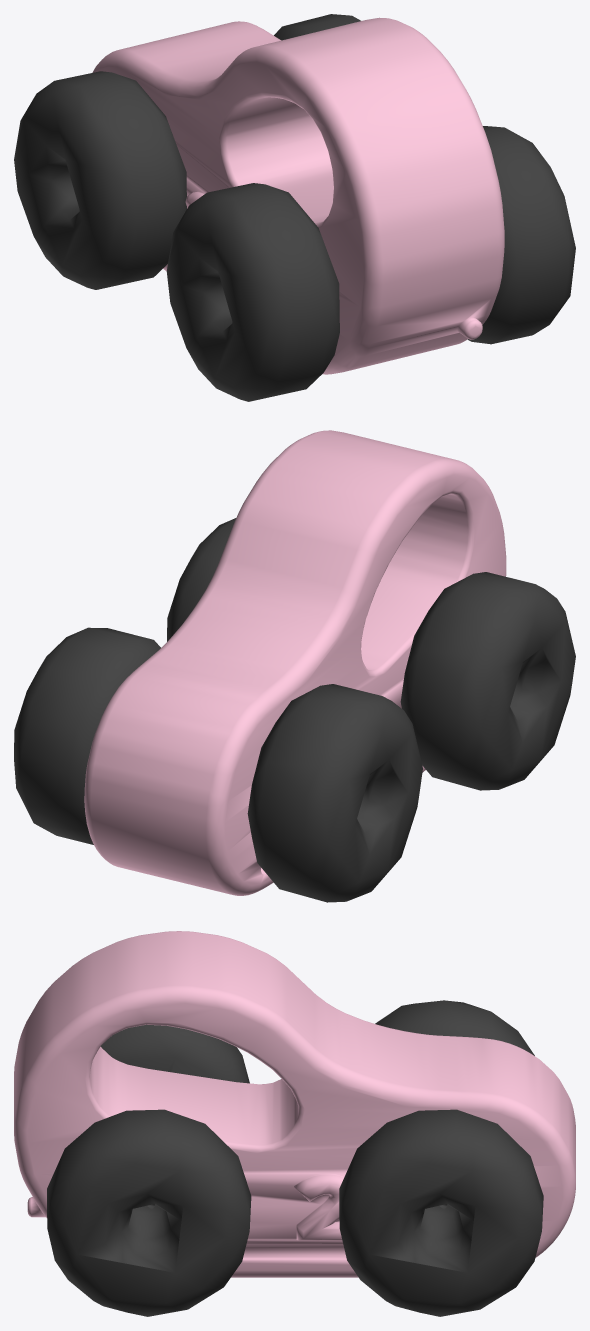
Rendered from car-toddler.glb.
3 renders of one model, top to bottom at view 1: azimuth 30°, elevation 25°; view 2: azimuth 150°, elevation 25°; view 3: azimuth 270°, elevation 25°, orthographic. The views are drawn at different scales.
Visible parts, largest first — view 1: body, wheel.002, wheel, wheel.003, wheel.001; view 2: body, wheel, wheel.002, wheel.001, wheel.003; view 3: body, wheel.001, wheel.003, wheel.002, wheel.
Part boxes in pixels (x1,y1,x2,y2): body: (92, 17, 504, 374); wheel.002: (166, 183, 339, 401); wheel: (14, 71, 186, 289); wheel.003: (468, 126, 575, 344); wheel.001: (274, 14, 360, 40); body: (84, 430, 506, 895); wheel: (247, 684, 422, 902); wheel.002: (400, 572, 575, 790); wheel.001: (14, 627, 160, 844); wheel.003: (167, 518, 235, 641); body: (14, 931, 575, 1277); wheel.001: (339, 1109, 543, 1316); wheel.003: (47, 1109, 251, 1316); wheel.002: (100, 1024, 249, 1083); wheel: (375, 1000, 534, 1055).
Bounding box in the file's own units: 1.67 × 1.49 × 2.6.
